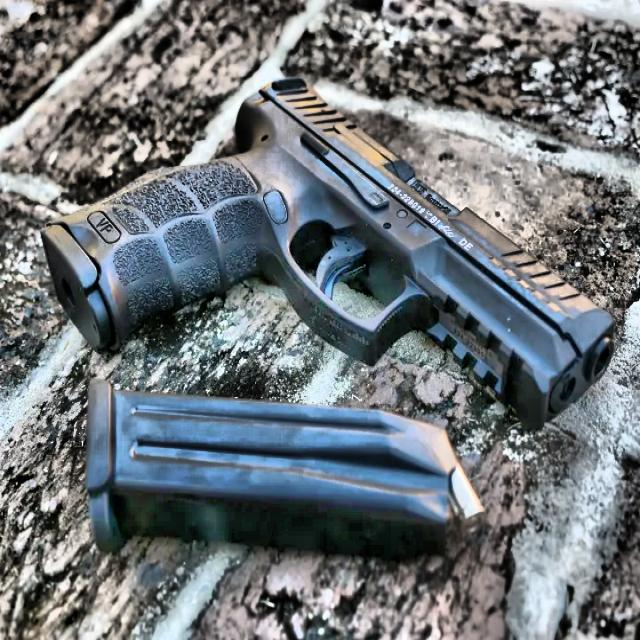HKVP9: (39, 74, 616, 430)
